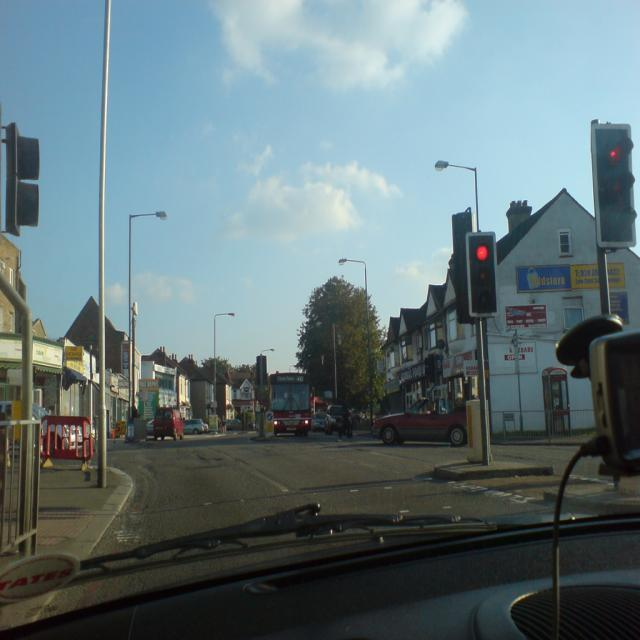off traffic light: (4, 121, 40, 236)
traffic light: (595, 128, 639, 241), (470, 236, 497, 312)
